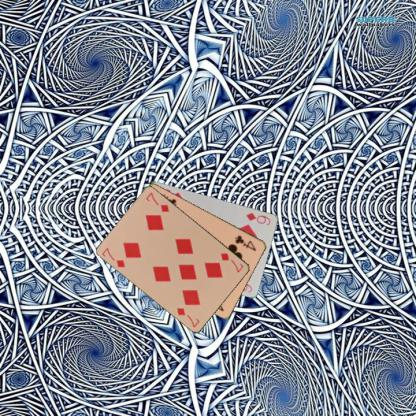4c: (232, 232, 258, 252)
6d: (244, 210, 272, 226)
7d: (100, 245, 126, 270), (218, 250, 245, 274)
